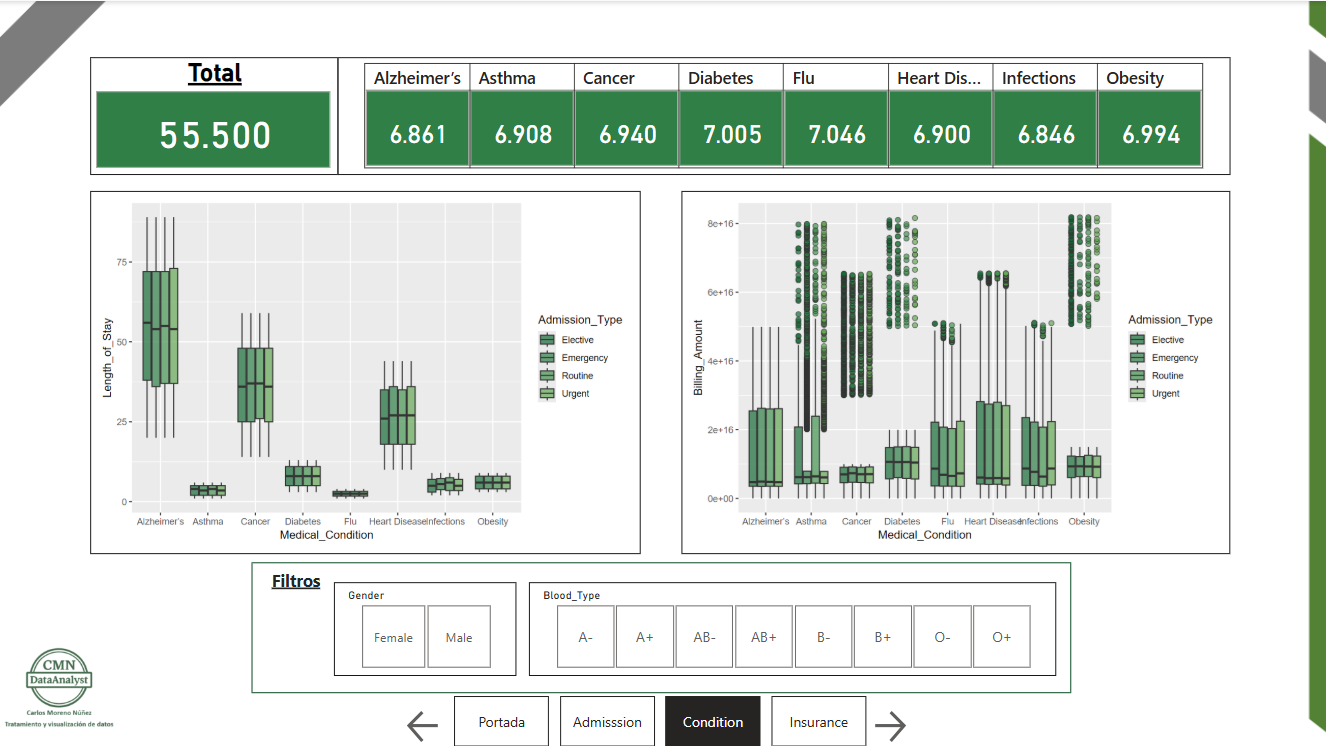

Layout of this report page (visuals, bound fields, positions):
{"tool":"powerbi","page":{"name":"Condition","canvas":[1280,720],"ordinal":2},"visuals":[{"type":"image","box":[0,604.4,115.8,115.8],"z":0},{"type":"pageNavigator","box":[439.1,671,400.5,49.5],"z":1000},{"type":"actionButton","box":[839.7,681,49.5,39.8],"z":2000},{"type":"actionButton","box":[389.7,681,49.5,39.8],"z":3000},{"type":"scriptVisual","fields":{"Values":["modified_healthcare_dataset.Billing_Amount","modified_healthcare_dataset.Insurance_Provider","modified_healthcare_dataset.Medical_Condition","modified_healthcare_dataset.Admission_Type","modified_healthcare_dataset.Gender","modified_healthcare_dataset.Blood_Type"]},"box":[658.7,183.6,529.6,350.5],"z":4000},{"type":"scriptVisual","fields":{"Values":["modified_healthcare_dataset.Medical_Condition","modified_healthcare_dataset.Blood_Type","modified_healthcare_dataset.Length_of_Stay","modified_healthcare_dataset.Admission_Type","modified_healthcare_dataset.Gender","modified_healthcare_dataset.Blood_Type"]},"box":[87.7,183.6,530.9,350.5],"z":5000},{"type":"cardVisual","title":"Total","fields":{"Data":["modified_healthcare_dataset.Name"]},"box":[88.1,54.5,238.9,113.4],"z":6000},{"type":"cardVisual","fields":{"Data":["modified_healthcare_dataset.Medical_Condition"],"Rows":["modified_healthcare_dataset.Medical_Condition"]},"box":[326.9,54.5,861.4,113.4],"z":7000},{"type":"shape","box":[243.7,541.9,791.4,126.7],"z":7500},{"type":"textbox","box":[258.2,542.6,68.8,37.4],"z":8000},{"type":"slicer","fields":{"Values":["modified_healthcare_dataset.Gender"]},"box":[323.3,561.2,176.1,90.5],"z":10000},{"type":"slicer","fields":{"Values":["modified_healthcare_dataset.Blood_Type"]},"box":[511.5,561.2,509.1,90.5],"z":11000}]}

Visuals, with their boxes in screenshot pixels (x1, y1, x2, y2), scaled from the page's 1280x720 canvas onto the 1326x746 screenshot:
image: l=0, t=626, r=120, b=745
pageNavigator: l=455, t=695, r=870, b=745
actionButton: l=870, t=706, r=921, b=745
actionButton: l=404, t=706, r=455, b=745
scriptVisual - modified_healthcare_dataset.Billing_Amount x modified_healthcare_dataset.Insurance_Provider: l=682, t=190, r=1231, b=553
scriptVisual - modified_healthcare_dataset.Medical_Condition x modified_healthcare_dataset.Blood_Type: l=91, t=190, r=641, b=553
"Total" cardVisual: l=91, t=56, r=339, b=174
cardVisual - modified_healthcare_dataset.Medical_Condition x modified_healthcare_dataset.Medical_Condition: l=339, t=56, r=1231, b=174
shape: l=252, t=561, r=1072, b=693
textbox: l=267, t=562, r=339, b=601
slicer - modified_healthcare_dataset.Gender: l=335, t=581, r=517, b=675
slicer - modified_healthcare_dataset.Blood_Type: l=530, t=581, r=1057, b=675
